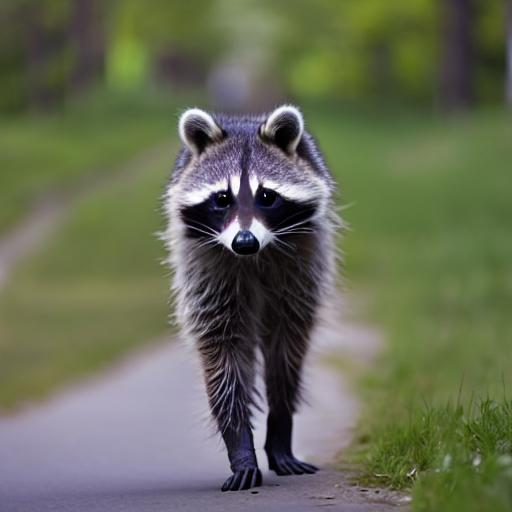raccoon: (148, 98, 351, 431)
